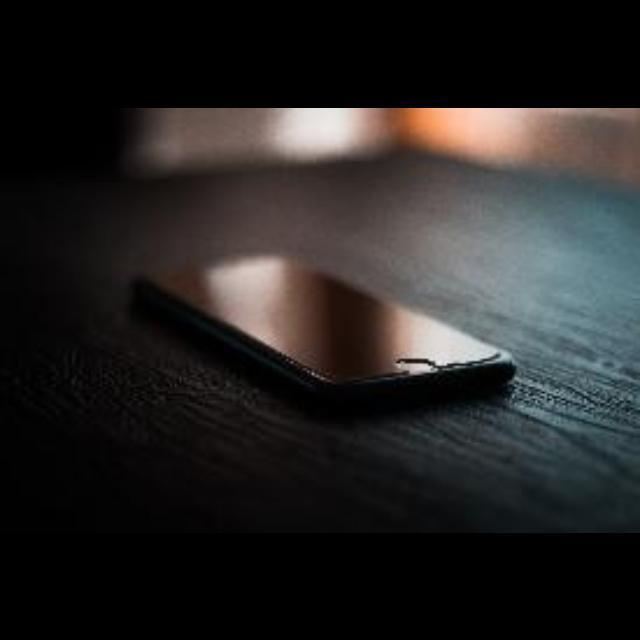PhoneUse: (135, 249, 539, 416)
